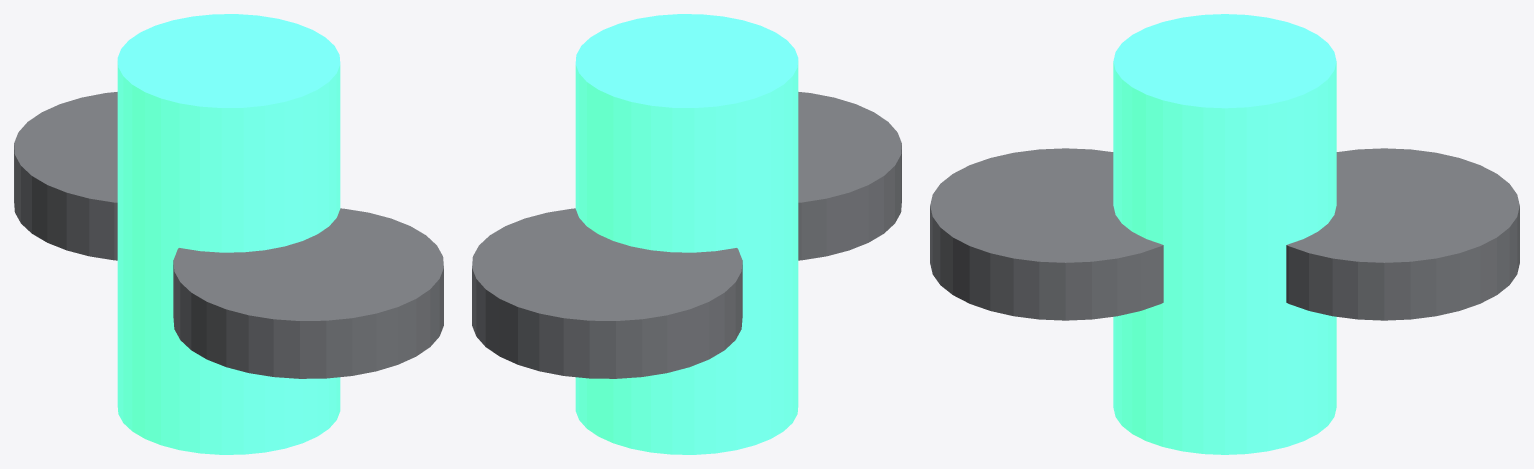
Rendered from generator_part_coolant.glb.
3 views of the same model, side by side, from view 1: azimuth 30°, elevation 25°; view 2: azimuth 150°, elevation 25°; view 3: azimuth 270°, elevation 25° (orthographic).
Parts seen in each view (by area): view 1: Cylinder, Cylinder.001, Cylinder.002; view 2: Cylinder, Cylinder.002, Cylinder.001; view 3: Cylinder, Cylinder.001, Cylinder.002.
Part boxes in pixels (x1,y1,x2,y2): Cylinder: (117,14,340,454); Cylinder.001: (173,208,443,378); Cylinder.002: (14,92,117,260); Cylinder: (575,14,798,454); Cylinder.002: (472,208,742,378); Cylinder.001: (798,92,901,260); Cylinder: (1113,14,1336,454); Cylinder.001: (930,148,1163,320); Cylinder.002: (1286,148,1519,320).
Size of the model in its own units: 0.17 by 0.24 by 0.37.
